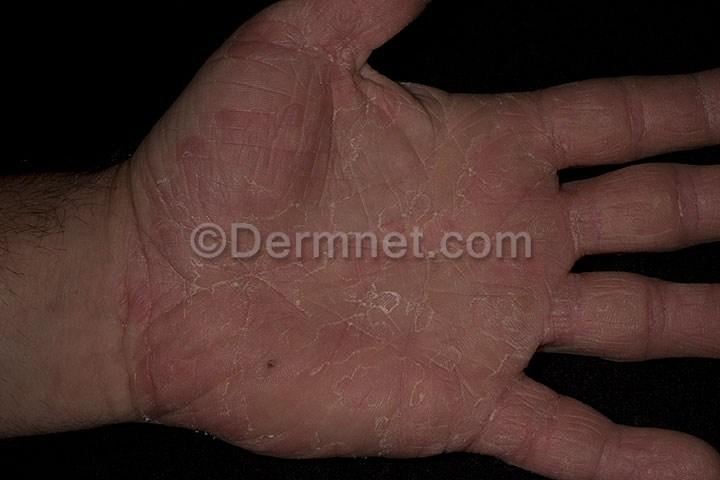Eczema: (146, 267, 367, 440), (171, 58, 398, 223), (403, 80, 571, 225), (369, 273, 514, 432), (506, 255, 618, 346), (499, 382, 587, 459), (634, 274, 718, 352), (577, 170, 660, 239), (573, 77, 648, 153), (652, 74, 720, 139), (607, 435, 688, 480), (669, 168, 720, 224)
